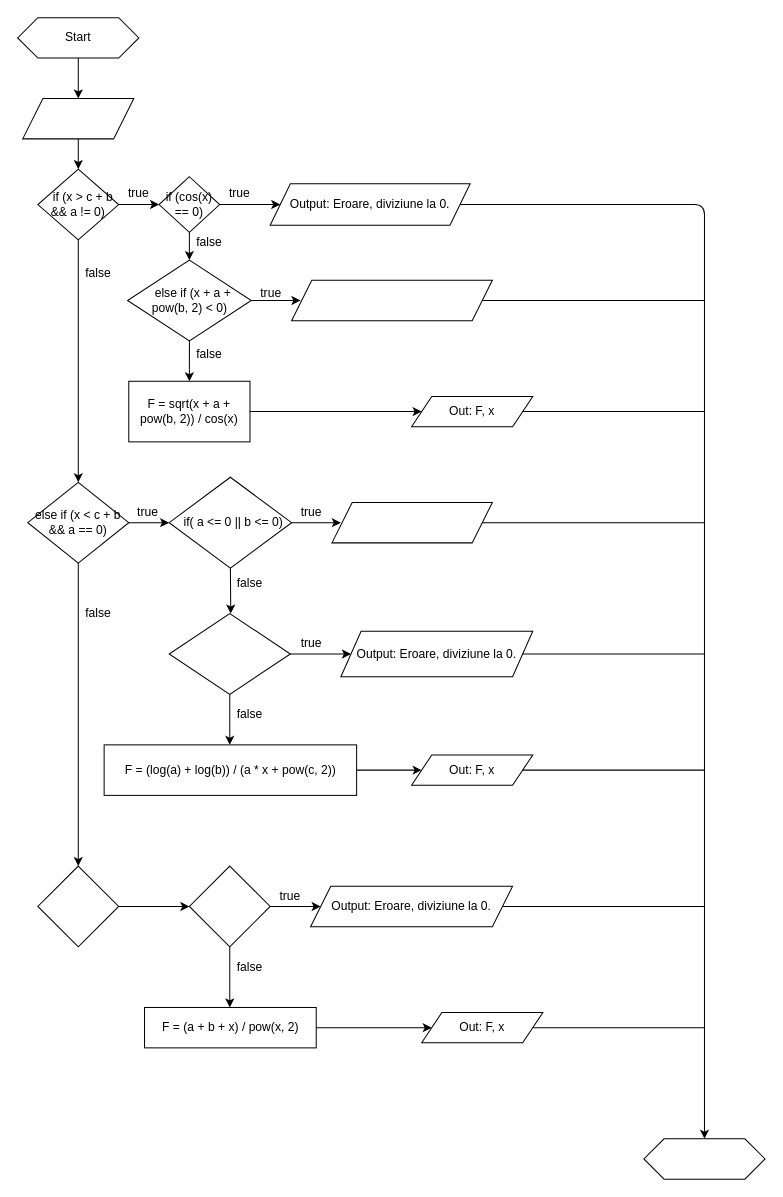
The diagram is 783 pixels wide and 1197 high, and some of its shapes have lost their labels. The shapes that lost their labels are listed below. From the top down, each one's centre as x and y in pixels, then its label:
At (78,118): "Input: float a, b, c, x, F".
At (391,300): "Output: Eroare, radacina patrata negativa.".
At (411,522): "Output: Eroare, logaritm mai mic sau egal cu 0.".
At (229,653): "else if (a * x + pow(c, 2) == 0)".
At (78,906): "else".
At (229,906): "if (x == 0)".
At (704,1158): "Stop".
